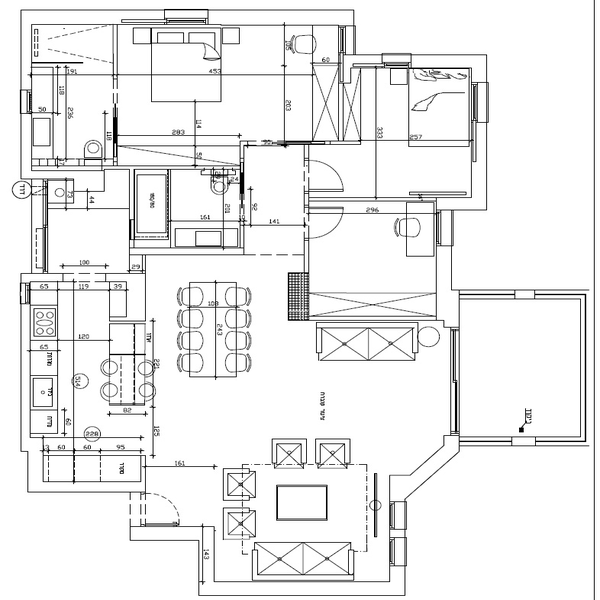door: (304, 156, 350, 196), (138, 488, 184, 528), (302, 204, 349, 241)
room: (18, 274, 147, 493), (197, 461, 407, 594), (341, 53, 487, 214)
wall: (208, 10, 352, 27), (20, 305, 33, 442), (19, 12, 165, 24), (470, 121, 487, 209), (18, 25, 34, 90), (413, 54, 485, 68), (21, 114, 34, 178)
window: (450, 327, 461, 434)
